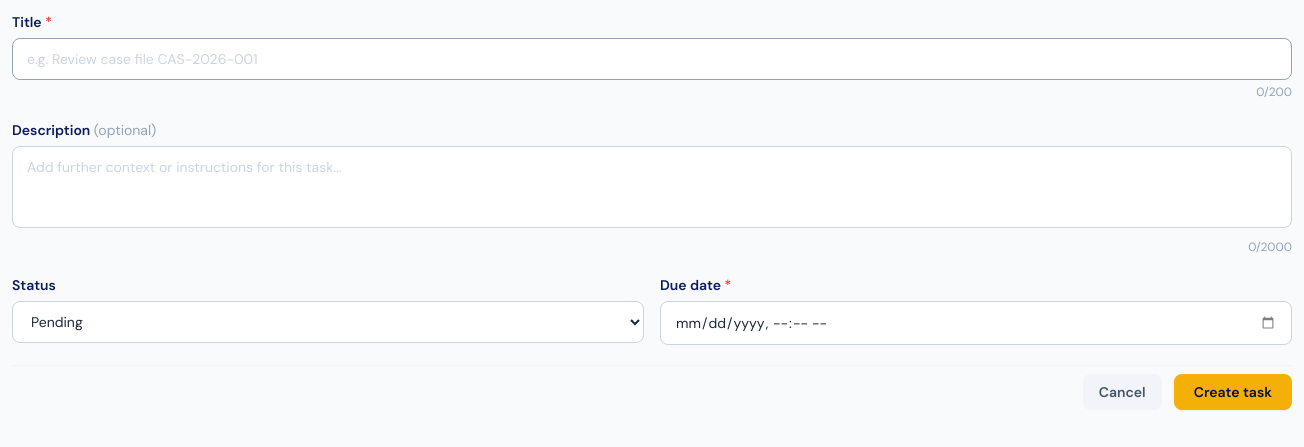
Test case: <TaskForm /> › shows validation error when due date is missing
The image size is (1304, 447).
Step 1. Type "Test Task" into the field labelled "Title *" → (652, 59), box [12, 38, 1292, 80]
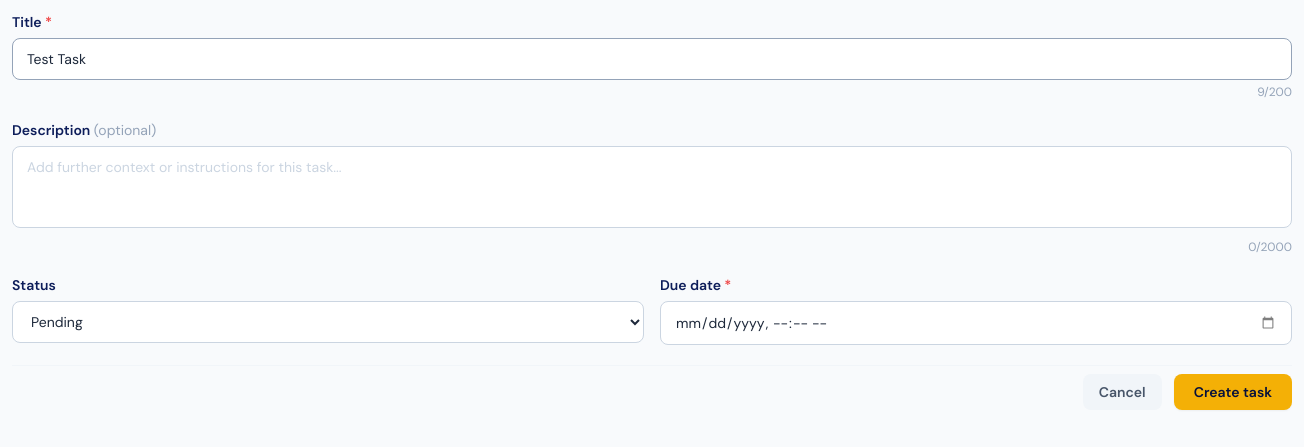
Step 2. Click the button "Create task" → click(1233, 392), box [1174, 374, 1292, 410]
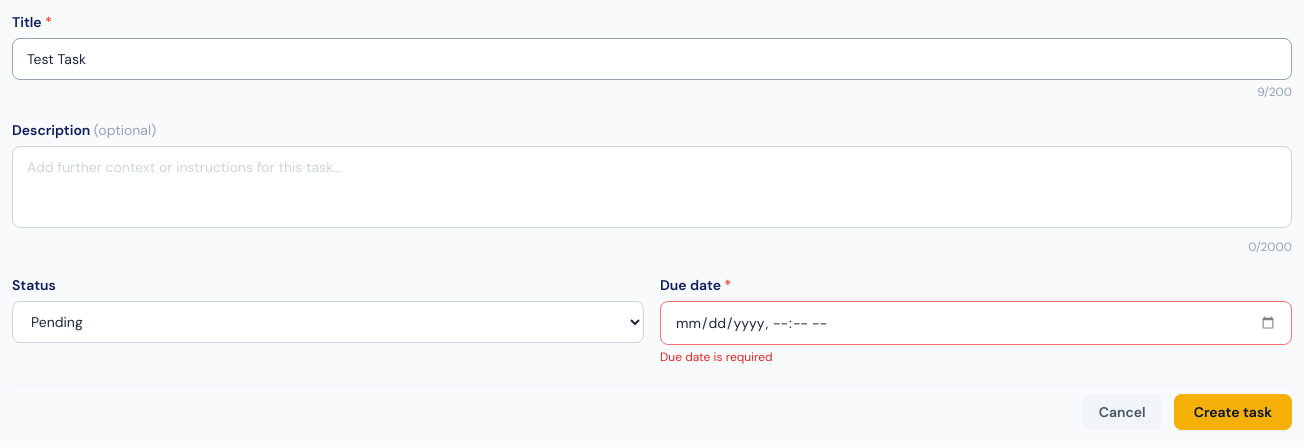
Result: the text "Due date is required" is shown at [660, 349, 772, 365]
